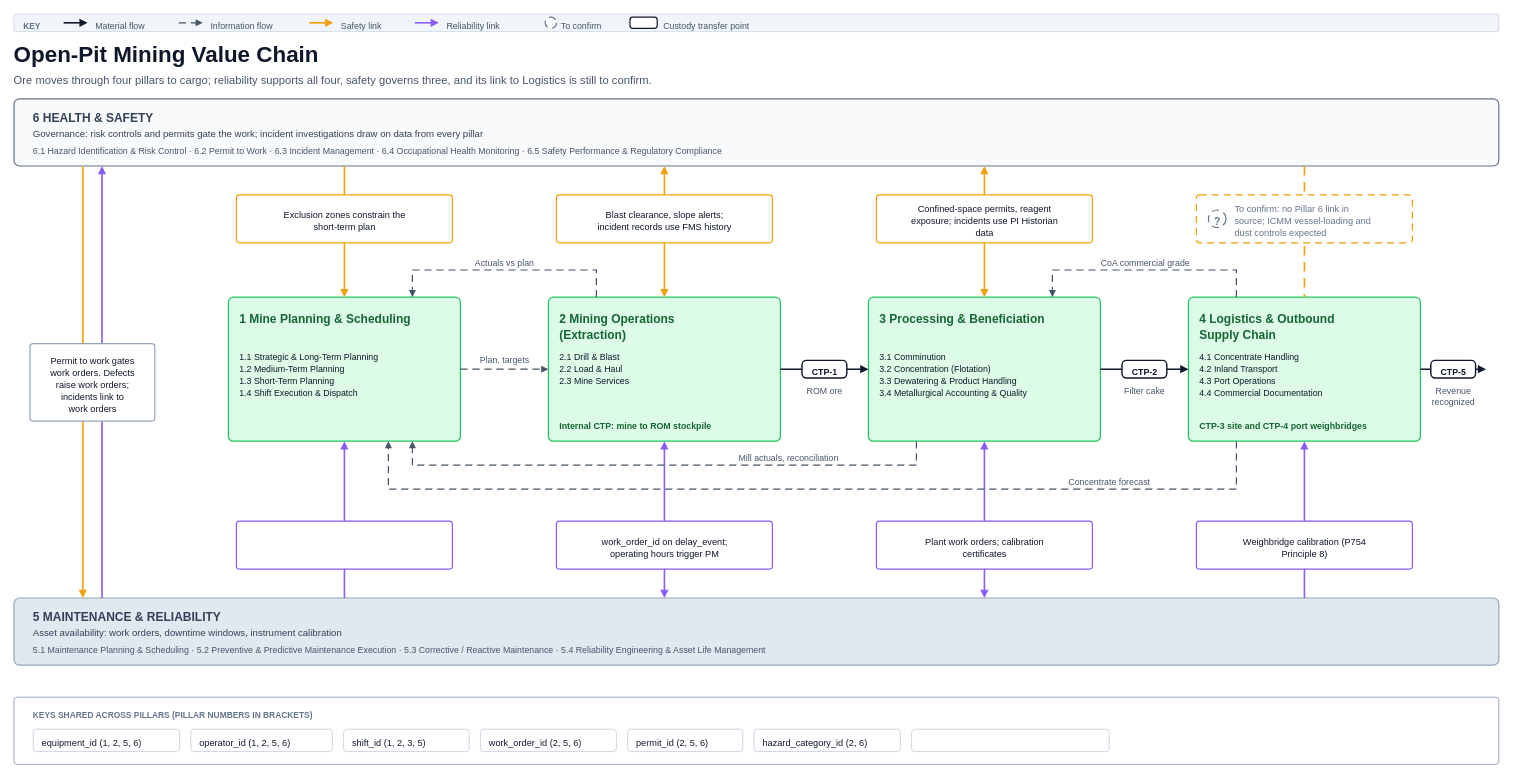
This 1514x779 diagram has some shape labels left out. The shapes that lost their labels are listed below. From the top down, each one's centre as x and y in pixels, then its label:
point 643,22: CTP
point 344,544: Downtime windows, capital replacement
point 1010,740: P754 measurement point id (3, 4, 5)
